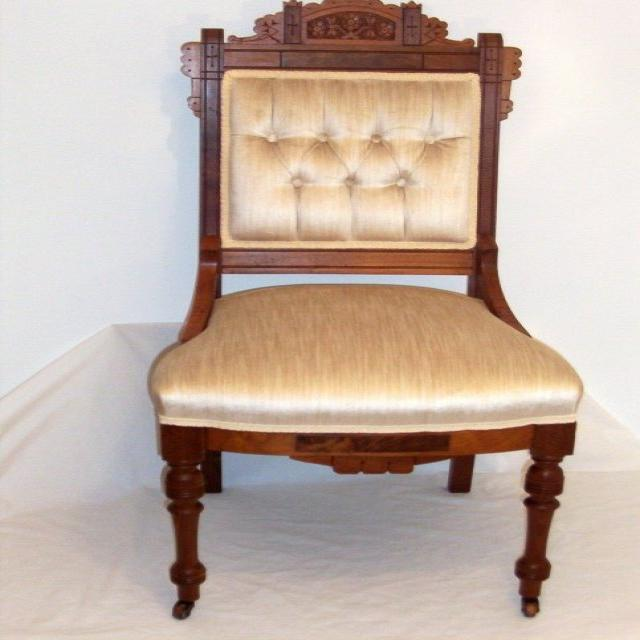chair: (146, 0, 583, 620)
